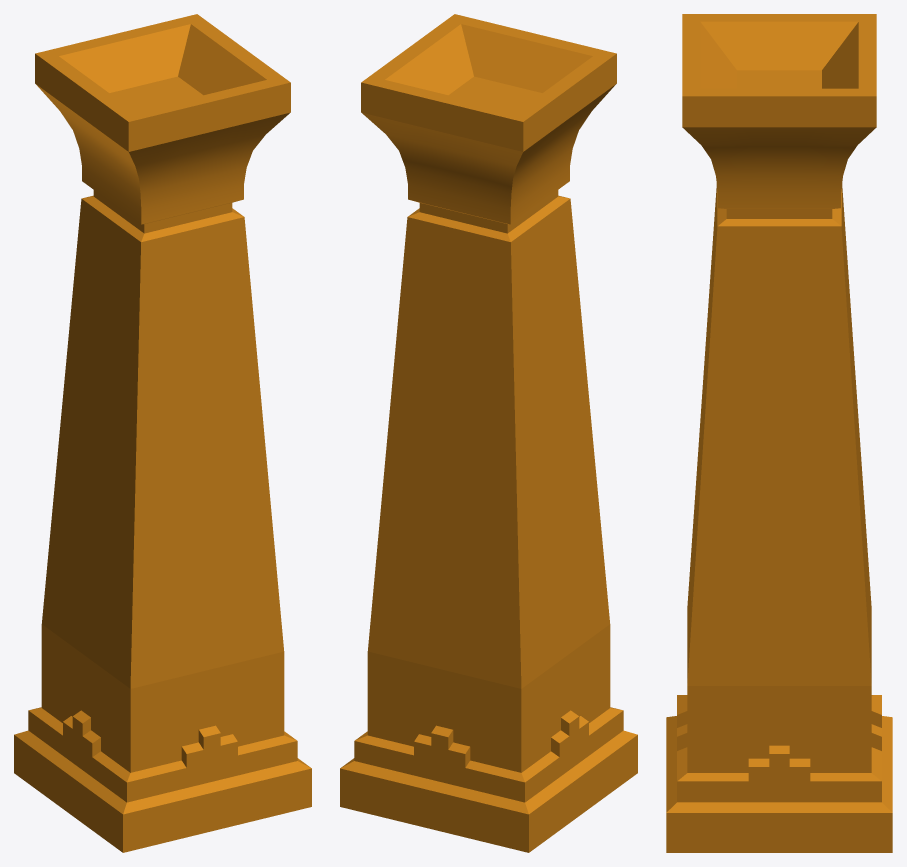
Rendered from SM_StandingTorch].FBX.
3 renders of one model, left to right at view 1: azimuth 30°, elevation 25°; view 2: azimuth 150°, elevation 25°; view 3: azimuth 270°, elevation 25°, orthographic. The views are drawn at different scales.
Parts seen in each view (by area): view 1: Torch; view 2: Torch; view 3: Torch.
Part boxes in pixels (box(x1,y1,x2,y2)): Torch: box(14, 14, 311, 852); Torch: box(340, 14, 637, 852); Torch: box(666, 14, 892, 852).
Bounding box in the file's own units: 16.2 × 59.17 × 16.2.
